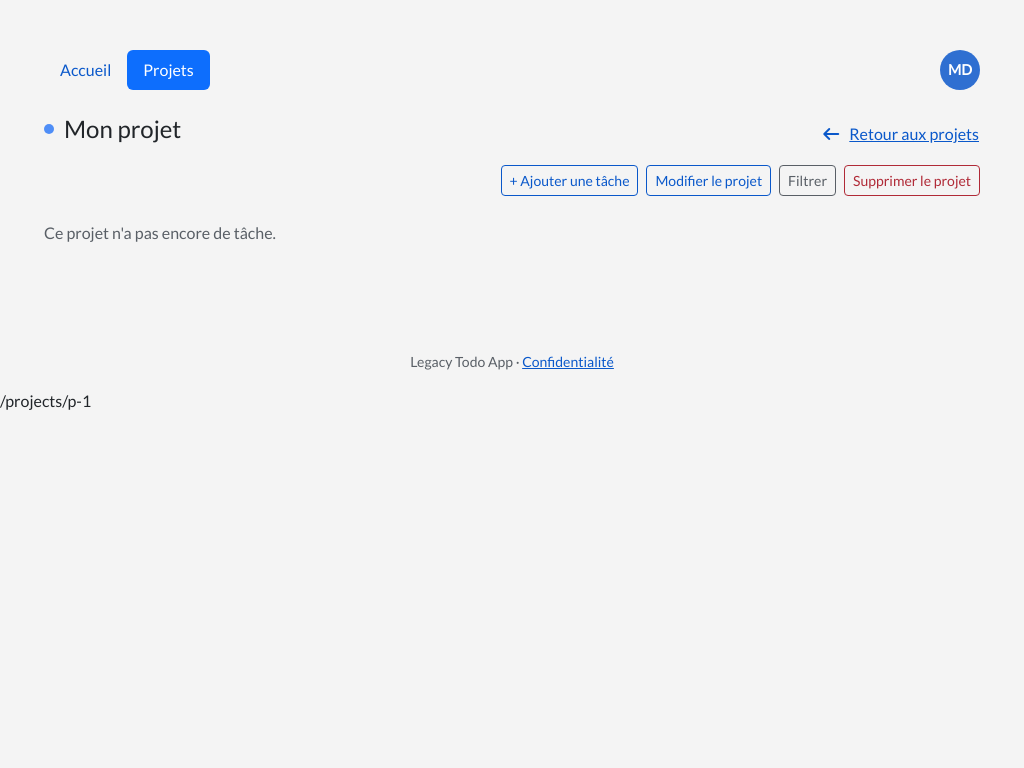
Scenario: creating a task › sends trimmed name, priority and due date, then shows the new task once
This screenshot has width=1024, height=768.
Expected: the text "Ce projet n'a pas encore de tâche." is shown, [44,223,276,242]
Click the button "+ Ajouter une tâche" at (570, 180), box [500,165,638,196]
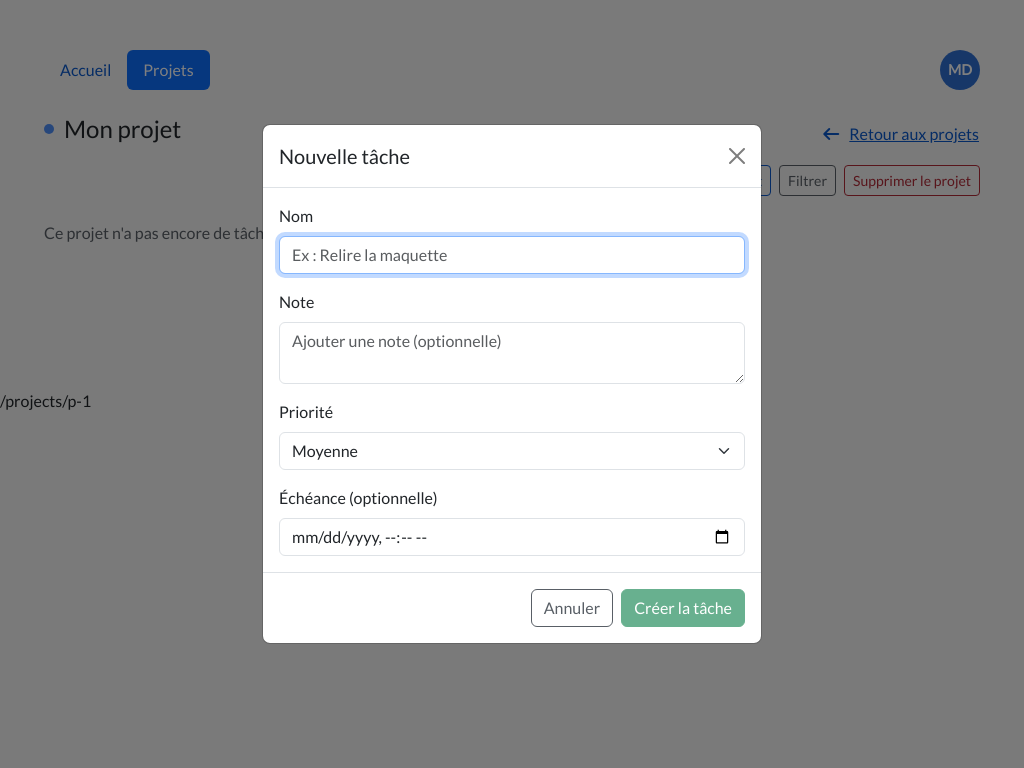
Type "  Write tests  " into the field labelled "Nom" at (512, 255), box [279,236,745,274]
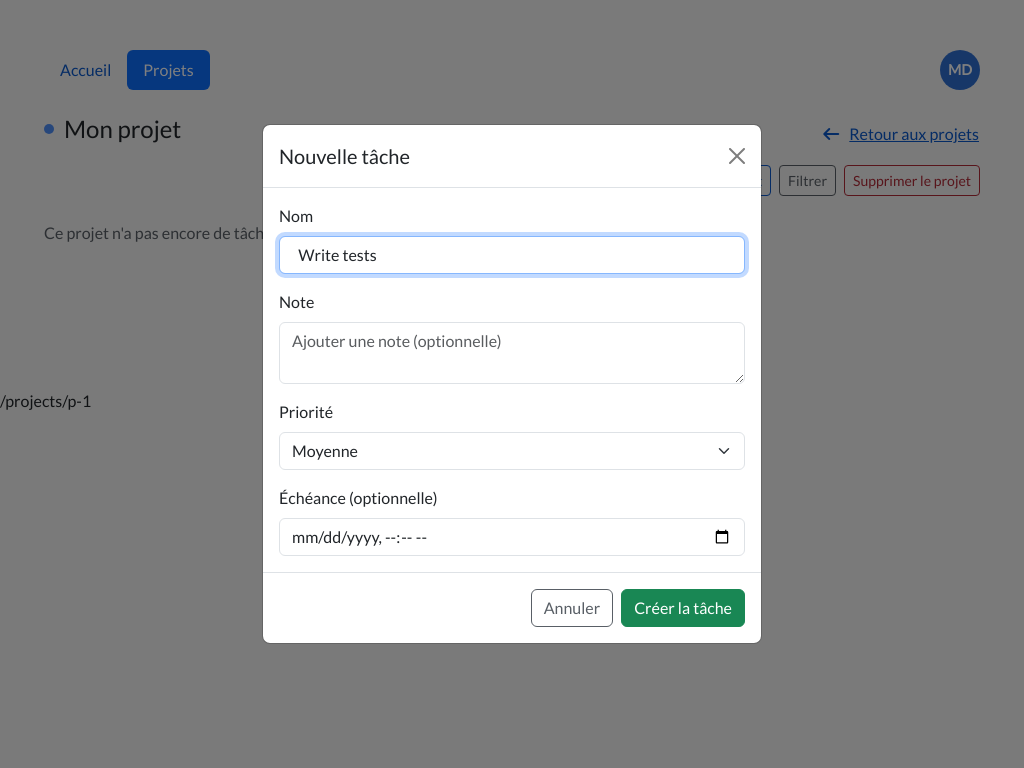
Select "Urgente" in the dropdown labelled "Priorité" at (512, 451), box [279,432,745,470]
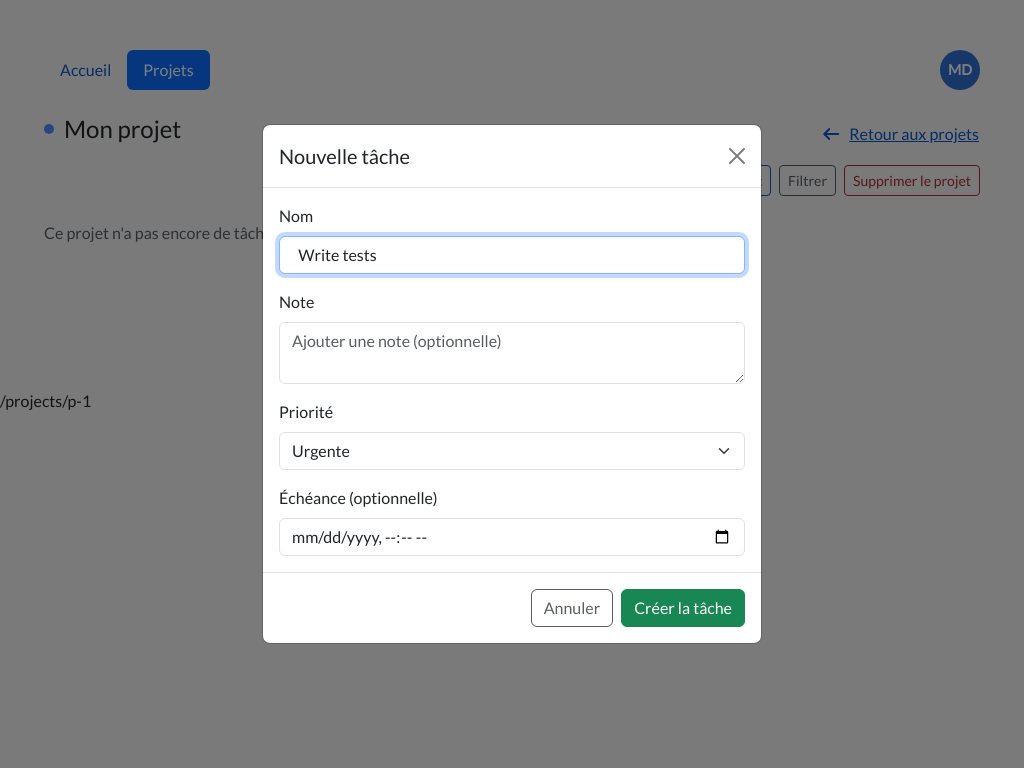
Type "2026-05-01T15:30" into the field labelled "Échéance (optionnelle)" at (512, 537), box [279,518,745,556]
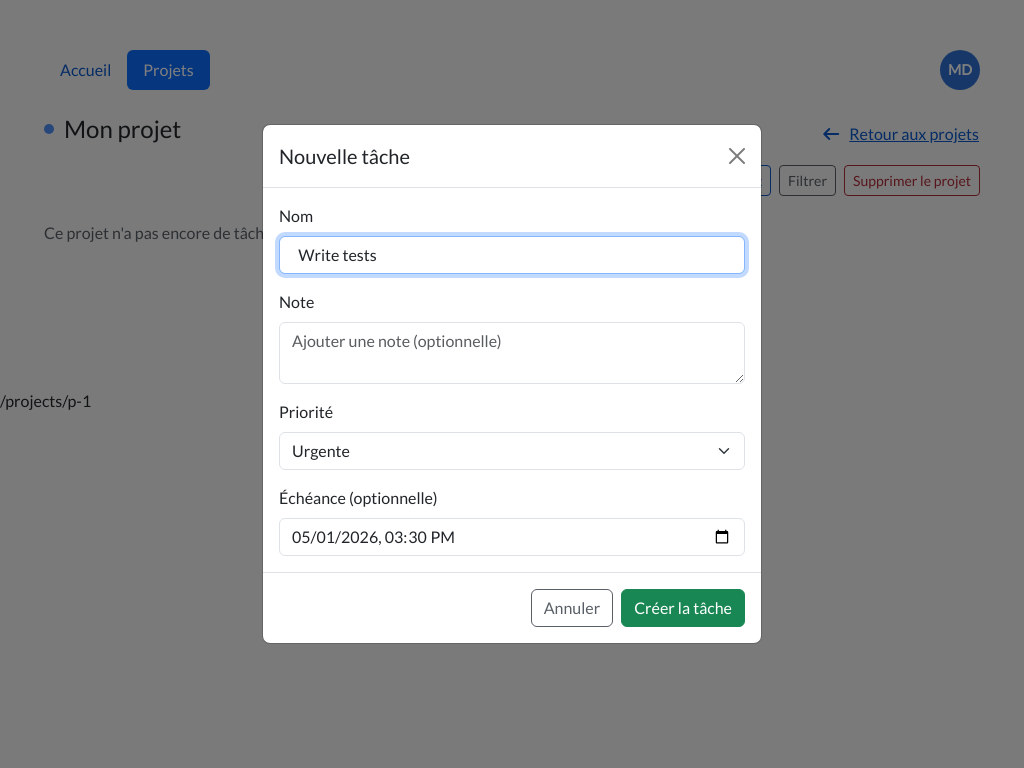
Click the button "Créer la tâche" at (683, 608), box [621,589,745,627]
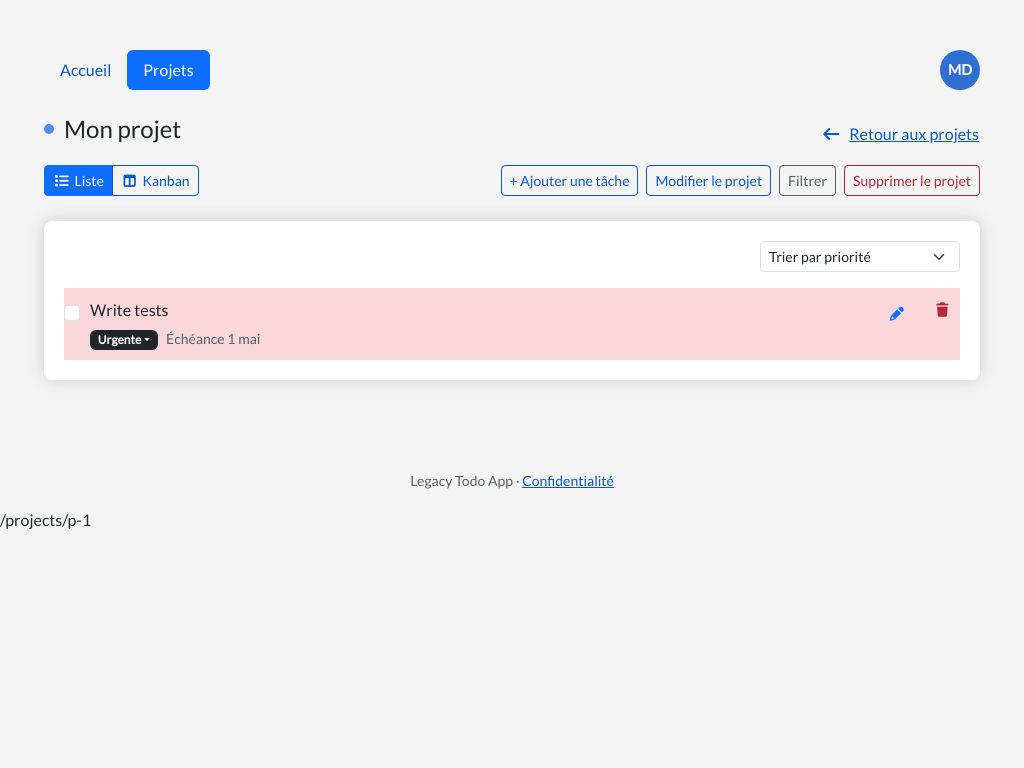
Expected: the text "Write tests" is shown, [90,300,168,319]
Expected: the text "Ce projet n'a pas encore de tâche." is gone
Expected: the dialog is gone
